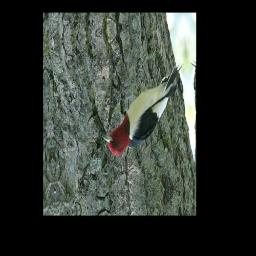Woodpecker: (94, 54, 192, 167)
